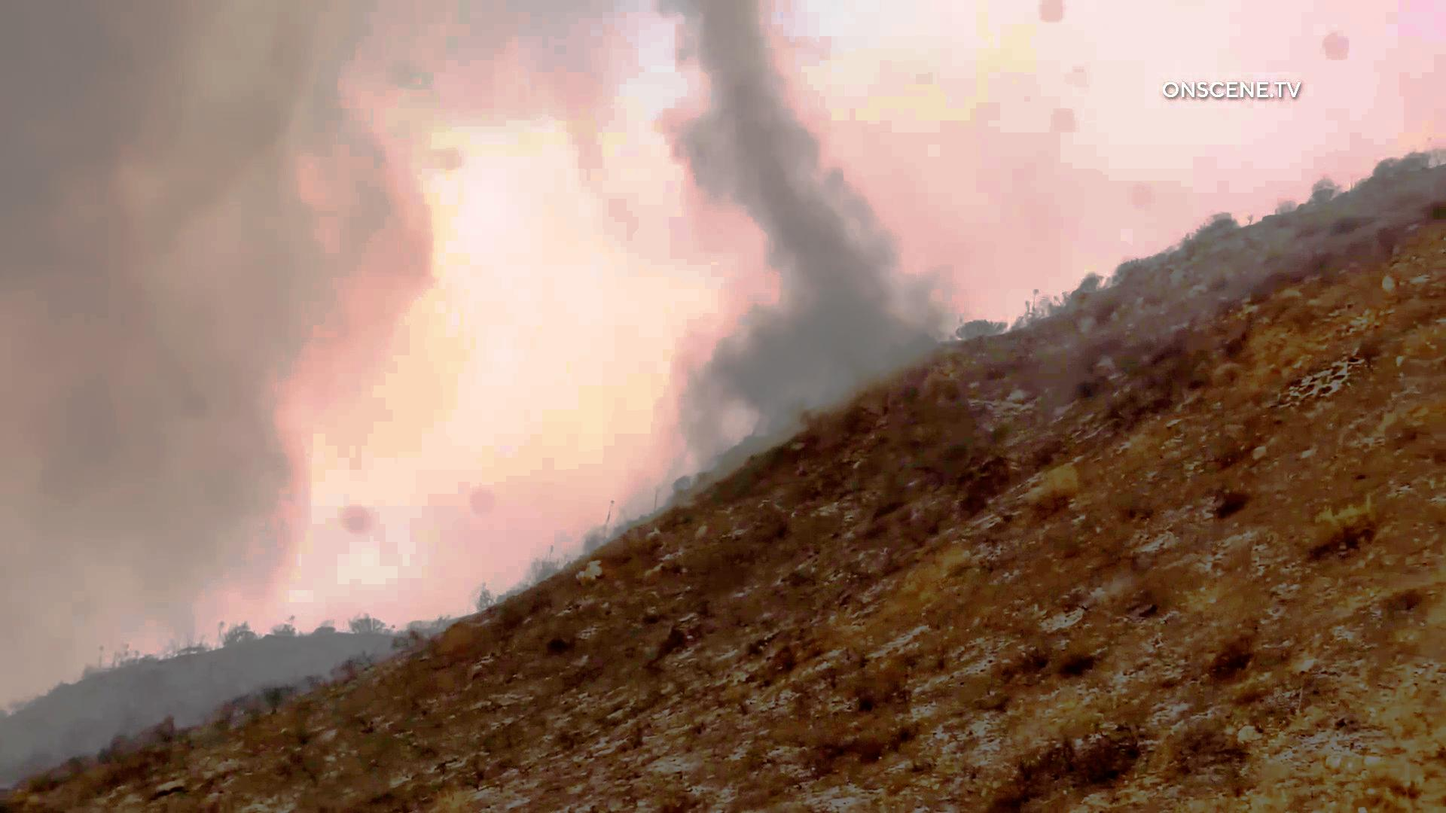smoke: (674, 2, 907, 393)
